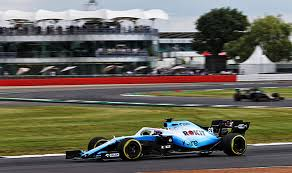FormulaOneCar: (62, 115, 253, 166)
